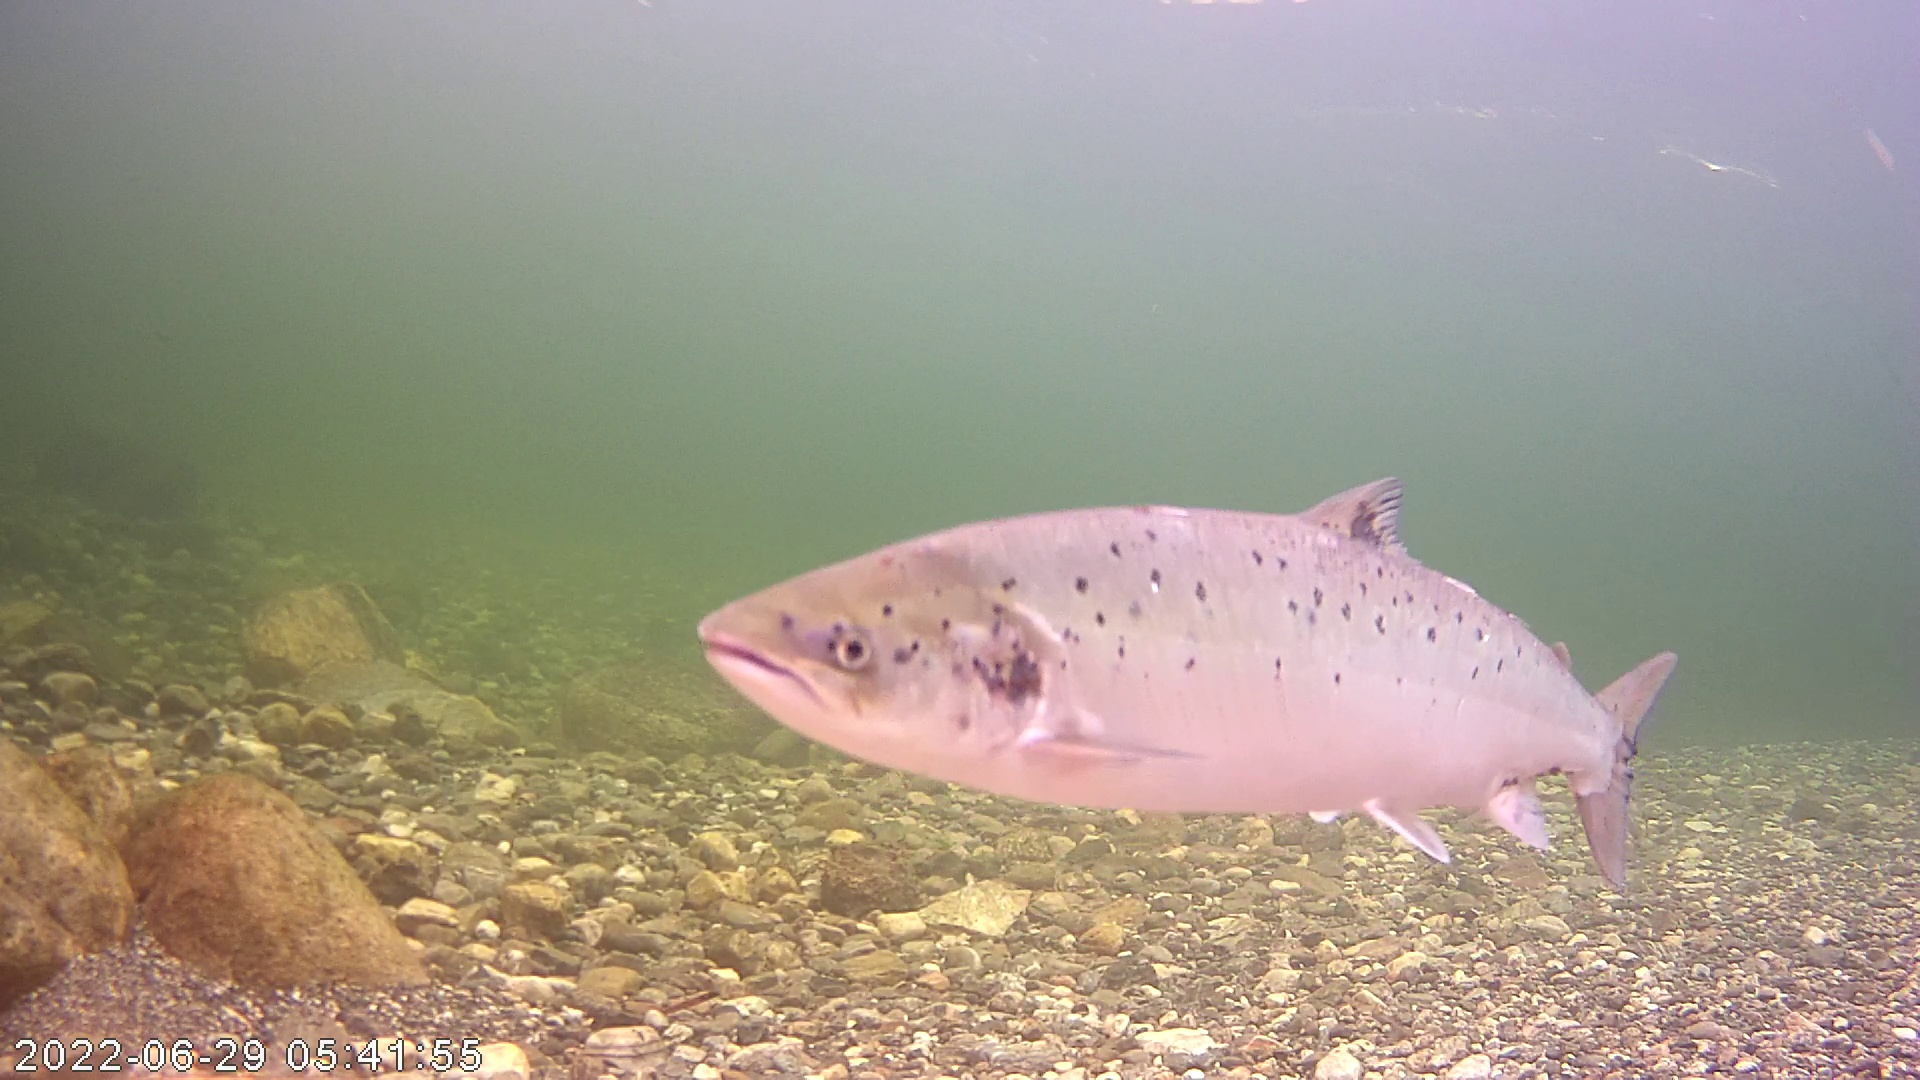salmon: (698, 332, 1676, 837)
